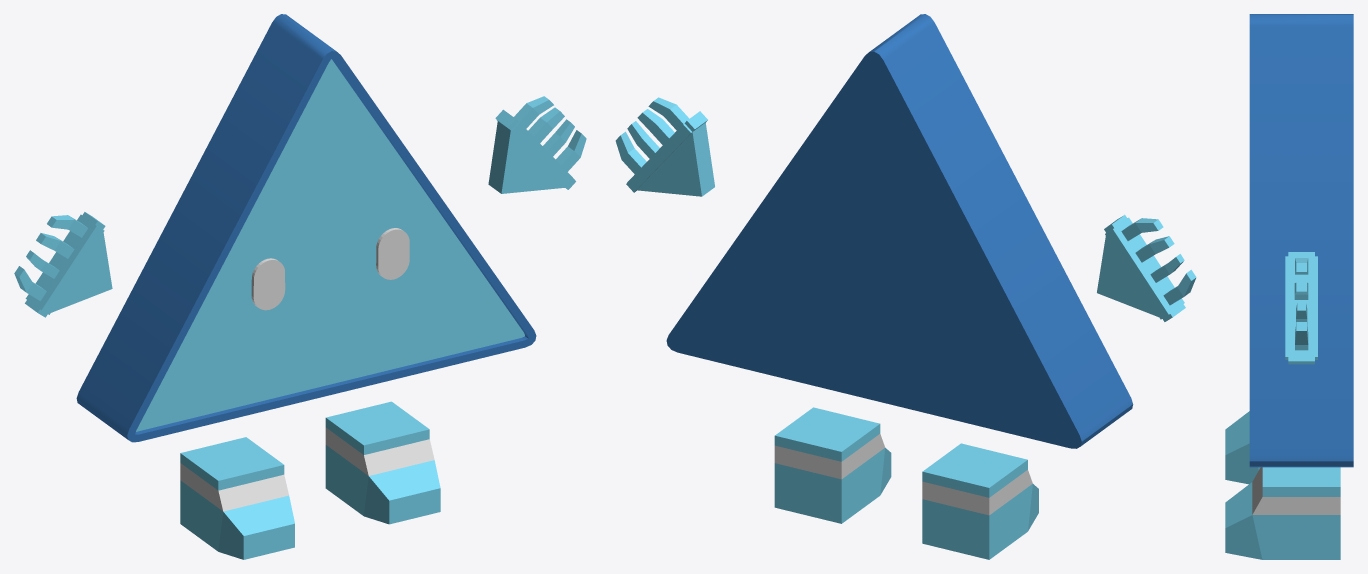
The model's file is Neobot_UpDown.fbx.
3 renders of one model, left to right at view 1: azimuth 30°, elevation 25°; view 2: azimuth 150°, elevation 25°; view 3: azimuth 270°, elevation 25°, orthographic. The views are drawn at different scales.
Parts seen in each view (by area): view 1: Cube.007, Cube.009; view 2: Cube.007, Cube.009; view 3: Cube.007, Cube.009.
Boxes of the visible parts, x1=… form: Cube.007: x1=14, y1=14, x2=586, y2=442; Cube.009: x1=180, y1=401, x2=440, y2=559; Cube.007: x1=615, y1=14, x2=1196, y2=448; Cube.009: x1=774, y1=407, x2=1038, y2=559; Cube.007: x1=1249, y1=14, x2=1353, y2=467; Cube.009: x1=1225, y1=411, x2=1340, y2=559.
Size of the model in its own units: 79.07 by 63.83 by 15.07.
